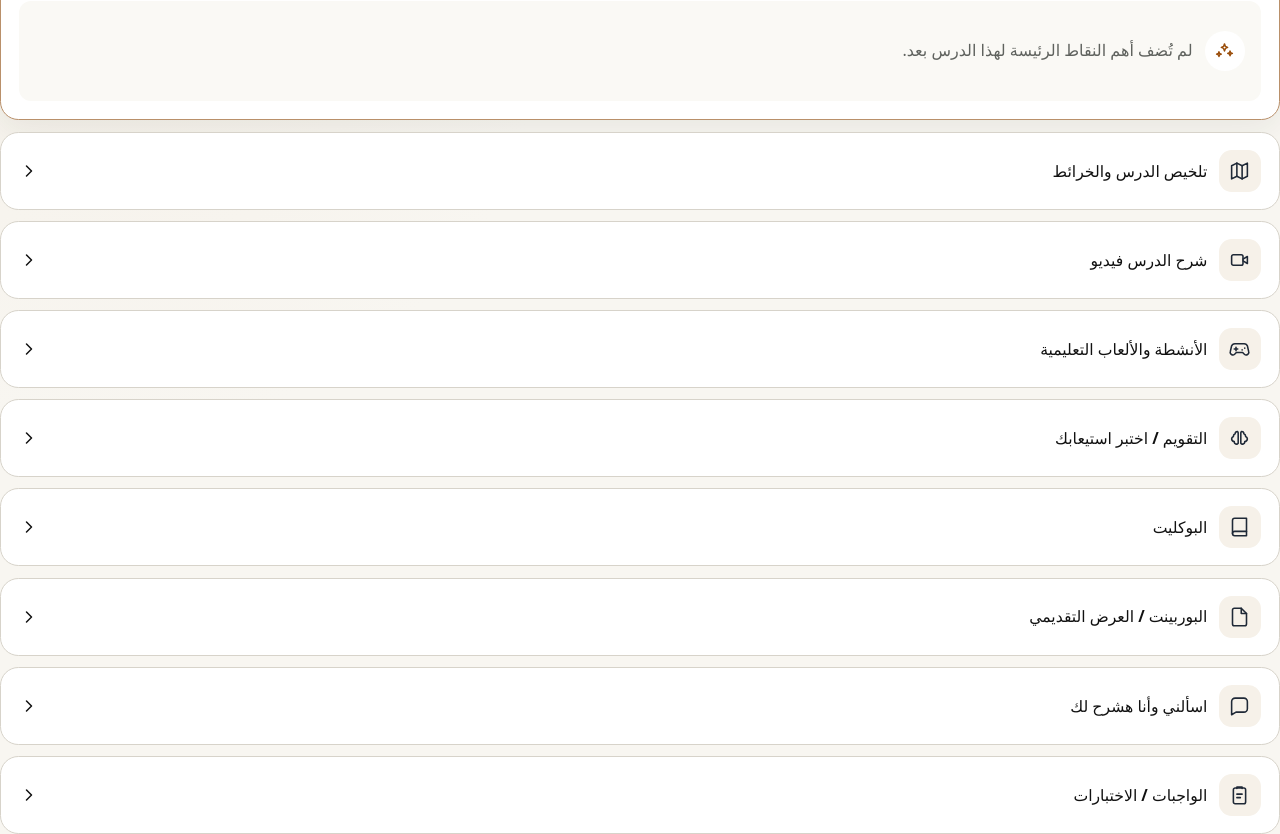
Scenario: سلوك أكورديون الدرس › يعرض الحالة الفارغة للواجبات في القالب النظيف
This screenshot has width=1280, height=834.
(page scrolled)
Click the button "الواجبات / الاختبارات": (1240, 795) left=1, top=757, right=1279, bottom=833
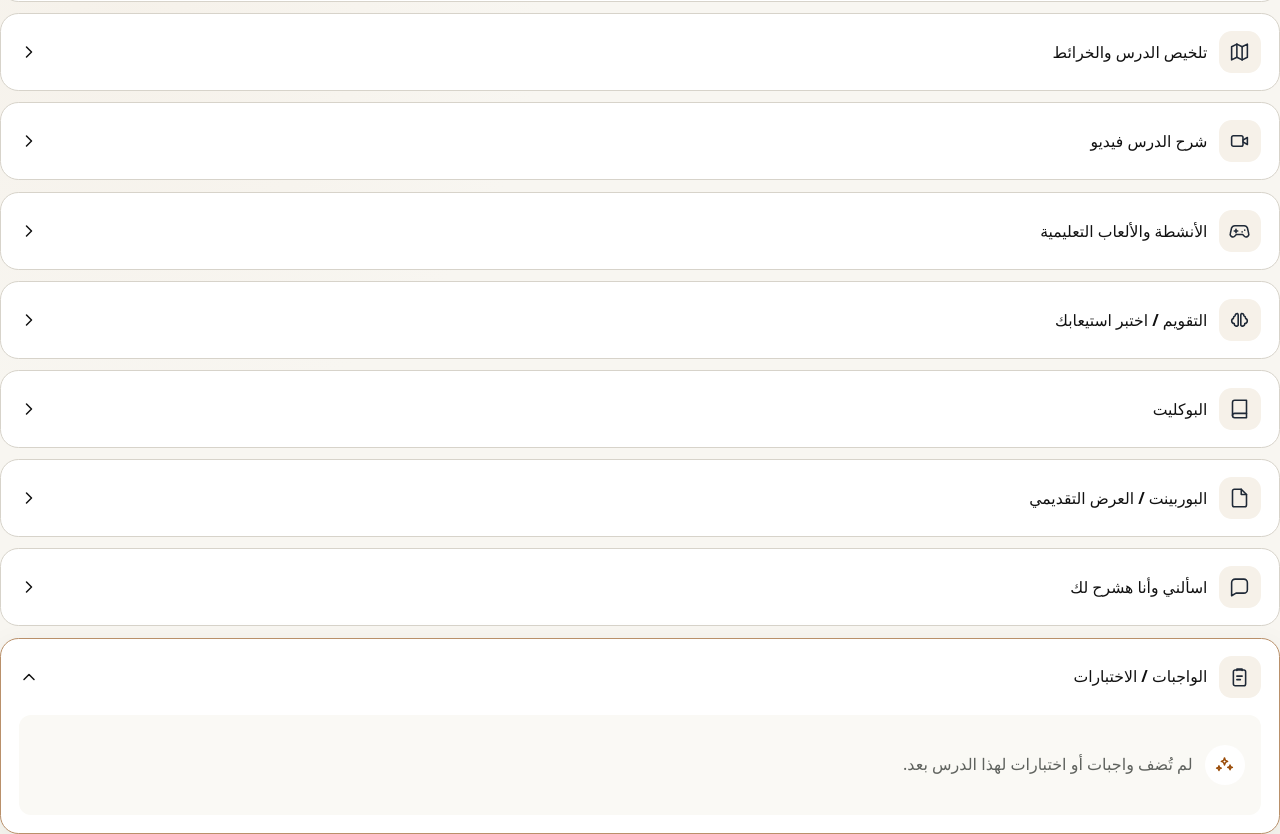
Check: the text "لم تُضف واجبات أو اختبارات لهذا الدرس بعد." is shown, box left=903, top=751, right=1193, bottom=778
